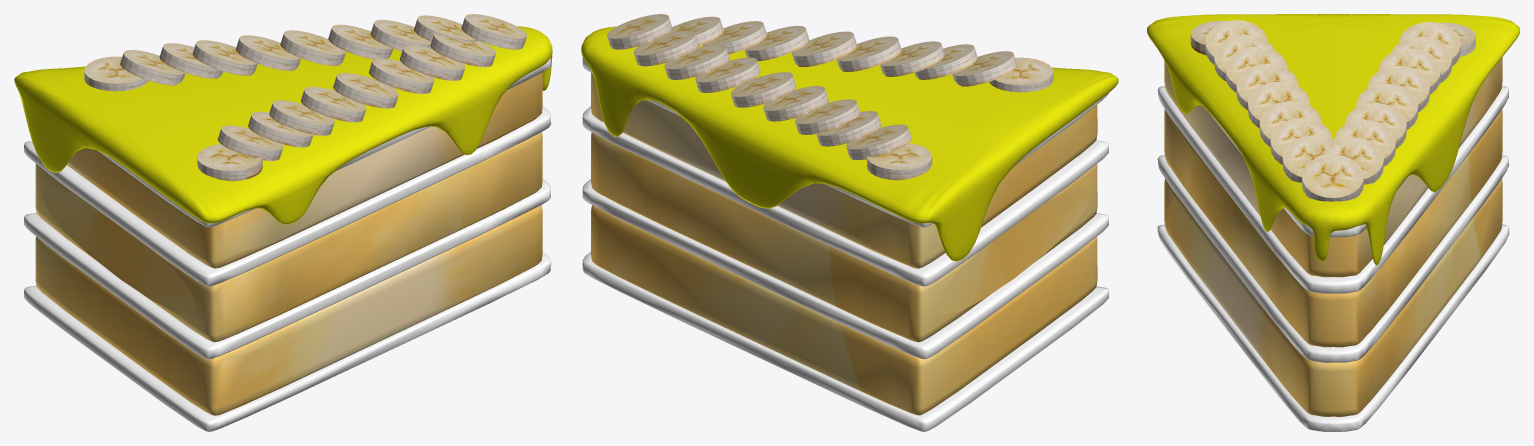
Rendered from cakes-transformed.glb.
3 views of the same model, side by side, from view 1: azimuth 30°, elevation 25°; view 2: azimuth 150°, elevation 25°; view 3: azimuth 270°, elevation 25° (orthographic). The views are drawn at different scales.
Visible parts, largest first — view 1: Cube; view 2: Cube; view 3: Cube.
Part boxes in pixels (bbox=[...]): Cube: bbox=[14, 14, 552, 431]; Cube: bbox=[581, 14, 1118, 431]; Cube: bbox=[1147, 14, 1519, 431].
Size of the model in its own units: 2.12 by 1.19 by 1.63.
Materials: 4 (2 with a texture image).
